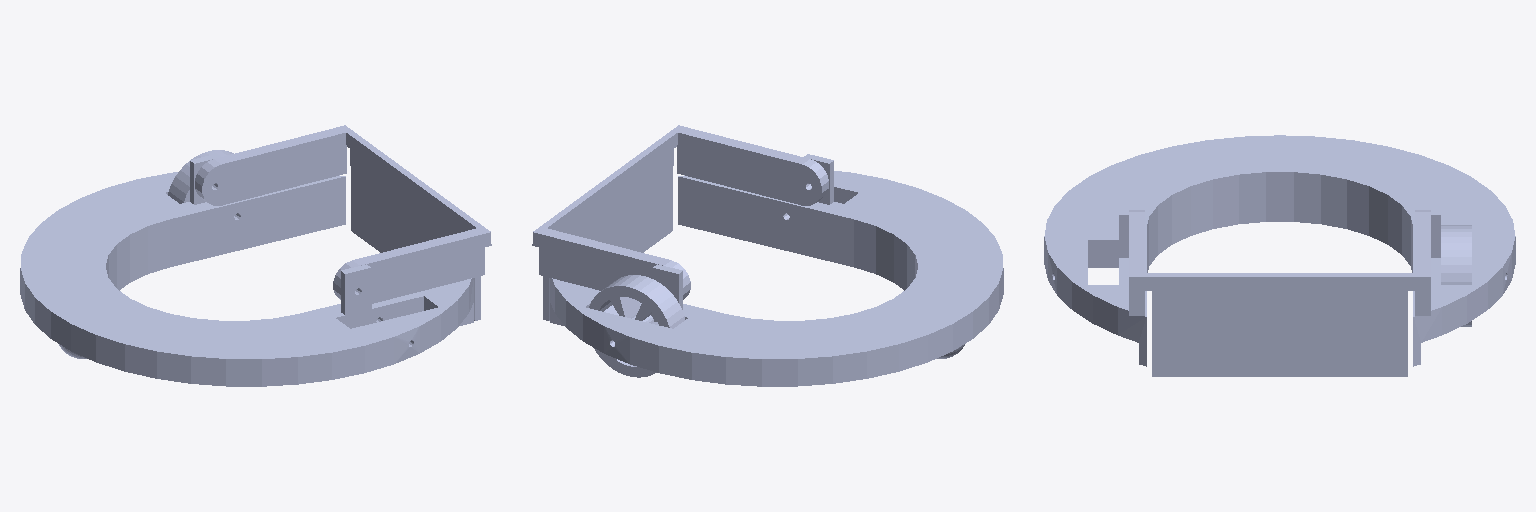
URDF robot description (area54):
<?xml version="1.0" encoding="utf-8"?>
<!-- This URDF was automatically created by SolidWorks to URDF Exporter! Originally created by [author] ([email redacted]) 
     Commit Version: 1.6.0-1-g15f4949  Build Version: 1.6.7594.29634
     For more information, please see http://wiki.ros.org/sw_urdf_exporter -->
<robot
  name="area54">
  <link
    name="base_link">
    <inertial>
      <origin
        xyz="-0.074361 2.1099E-08 0.018509"
        rpy="0 0 0" />
      <mass
        value="5" />
      <inertia
        ixx="0.19171"
        ixy="-1.6123E-08"
        ixz="0.00045566"
        iyy="0.099845"
        iyz="-8.6121E-11"
        izz="0.28912" />
    </inertial>
    <visual>
      <origin
        xyz="0 0 0"
        rpy="0 0 0" />
      <geometry>
        <mesh
          filename="package://area54/meshes/base_link.STL" />
      </geometry>
      <material
        name="">
        <color
          rgba="0.79216 0.81961 0.93333 1" />
      </material>
    </visual>
    <collision>
      <origin
        xyz="0 0 0"
        rpy="0 0 0" />
      <geometry>
        <mesh
          filename="package://area54/meshes/base_link.STL" />
      </geometry>
    </collision>
  </link>
  <link
    name="L_link">
    <inertial>
      <origin
        xyz="0.02 -1.3878E-17 -1.7347E-17"
        rpy="0 0 0" />
      <mass
        value="1" />
      <inertia
        ixx="0.00086187"
        ixy="-7.7277E-20"
        ixz="-5.6633E-20"
        iyy="0.00047589"
        iyz="1.0842E-19"
        izz="0.00047589" />
    </inertial>
    <visual>
      <origin
        xyz="0 0 0"
        rpy="0 0 0" />
      <geometry>
        <mesh
          filename="package://area54/meshes/L_link.STL" />
      </geometry>
      <material
        name="">
        <color
          rgba="0.79216 0.81961 0.93333 1" />
      </material>
    </visual>
    <collision>
      <origin
        xyz="0 0 0"
        rpy="0 0 0" />
      <geometry>
        <mesh
          filename="package://area54/meshes/L_link.STL" />
      </geometry>
    </collision>
  </link>
  <joint
    name="L_joint"
    type="continuous">
    <origin
      xyz="0.082504 0.205 0.02"
      rpy="2.5634 0 1.5708" />
    <parent
      link="base_link" />
    <child
      link="L_link" />
    <axis
      xyz="1 0 0" />
  </joint>
  <link
    name="R_link">
    <inertial>
      <origin
        xyz="-0.02 0 0"
        rpy="0 0 0" />
      <mass
        value="1" />
      <inertia
        ixx="0.00086187"
        ixy="-6.3145E-20"
        ixz="-8.8244E-20"
        iyy="0.00047589"
        iyz="6.7763E-20"
        izz="0.00047589" />
    </inertial>
    <visual>
      <origin
        xyz="0 0 0"
        rpy="0 0 0" />
      <geometry>
        <mesh
          filename="package://area54/meshes/R_link.STL" />
      </geometry>
      <material
        name="">
        <color
          rgba="0.79216 0.81961 0.93333 1" />
      </material>
    </visual>
    <collision>
      <origin
        xyz="0 0 0"
        rpy="0 0 0" />
      <geometry>
        <mesh
          filename="package://area54/meshes/R_link.STL" />
      </geometry>
    </collision>
  </link>
  <joint
    name="R_joint"
    type="continuous">
    <origin
      xyz="0.082504 -0.205 0.02"
      rpy="2.2586 0 1.5708" />
    <parent
      link="base_link" />
    <child
      link="R_link" />
    <axis
      xyz="1 0 0" />
  </joint>
  <link
    name="castor_link">
    <inertial>
      <origin
        xyz="0 2.7756E-17 2.7756E-17"
        rpy="0 0 0" />
      <mass
        value="1" />
      <inertia
        ixx="0.00012425"
        ixy="0"
        ixz="-6.7763E-21"
        iyy="0.00012425"
        iyz="0"
        izz="0.00012425" />
    </inertial>
    <visual>
      <origin
        xyz="0 0 0"
        rpy="0 0 0" />
      <geometry>
        <mesh
          filename="package://area54/meshes/castor_link.STL" />
      </geometry>
      <material
        name="">
        <color
          rgba="0.79216 0.81961 0.93333 1" />
      </material>
    </visual>
    <collision>
      <origin
        xyz="0 0 0"
        rpy="0 0 0" />
      <geometry>
        <mesh
          filename="package://area54/meshes/castor_link.STL" />
      </geometry>
    </collision>
  </link>
  <joint
    name="castor_joint"
    type="continuous">
    <origin
      xyz="-0.25 0 0"
      rpy="1.9804 0.71349 -0.61193" />
    <parent
      link="base_link" />
    <child
      link="castor_link" />
    <axis
      xyz="0.43433 0.67086 0.60109" />
    <dynamics
      damping="0"
      friction="0" />
  </joint>


  <gazebo>

    <plugin filename="libgazebo_ros_diff_drive.so" name="differential_drive_controller">

      <legacyMode>false</legacyMode>

      <alwaysOn>true</alwaysOn>

      <updateRate>20</updateRate>

      <leftJoint>L_joint</leftJoint>

      <rightJoint>R_joint</rightJoint>

      <wheelSeparation>0.41</wheelSeparation>

      <wheelDiameter>0.13</wheelDiameter>

      <torque>2</torque>

      <commandTopic>cmd_vel</commandTopic>

      <odometryTopic>odom</odometryTopic>

      <odometryFrame>odom</odometryFrame>

      <robotBaseFrame>base_link</robotBaseFrame>

    </plugin>

  </gazebo>
  <link
    name="grip_link">
    <inertial>
      <origin
        xyz="-0.05 0.0046968 0.10709"
        rpy="0 0 0" />
      <mass
        value="1" />
      <inertia
        ixx="0.00625"
        ixy="-1.975E-18"
        ixz="1.1185E-18"
        iyy="0.02637"
        iyz="0.0009528"
        izz="0.022614" />
    </inertial>
    <visual>
      <origin
        xyz="0 0 0"
        rpy="0 0 0" />
      <geometry>
        <mesh
          filename="package://area54/meshes/grip_link.STL" />
      </geometry>
      <material
        name="">
        <color
          rgba="0.79216 0.81961 0.93333 1" />
      </material>
    </visual>
    <collision>
      <origin
        xyz="0 0 0"
        rpy="0 0 0" />
      <geometry>
        <mesh
          filename="package://area54/meshes/grip_link.STL" />
      </geometry>
    </collision>
  </link>
  <joint
    name="grip_joint"
    type="continuous">
    <origin
      xyz="0.09 0.05 0.05"
      rpy="1.583 0 1.5708" />
    <parent
      link="base_link" />
    <child
      link="grip_link" />
    <axis
      xyz="1 0 0" />
    <limit
      lower="0"
      upper="1.57"
      effort="2000"
      velocity="0.5" />
    <dynamics
      damping="0"
      friction="0" />
  </joint>

  <gazebo>
    <plugin name="gazebo_ros_control" filename="libgazebo_ros_control.so">
      <robotNamespace>/area54</robotNamespace>
      <robotSimType>gazebo_ros_control/DefaultRobotHWSim</robotSimType>
      <legacyModeNS>true</legacyModeNS>
    </plugin>
  </gazebo>

  <!-- transmission -->
  <transmission name="base_to_second_trans">
    <type>transmission_interface/SimpleTransmission</type>
    <actuator name="motor1">
      <mechanicalReduction>1</mechanicalReduction>
    </actuator>
    <joint name="grip_joint">
      <hardwareInterface>PositionJointInterface</hardwareInterface>
    </joint>
  </transmission>
</robot>

--- Facts derived from the render (not from the file) ---
3 views of the same robot in one strip: view 1: azimuth 30°, elevation 25°; view 2: azimuth 150°, elevation 25°; view 3: azimuth 270°, elevation 25° (orthographic).
Robot: area54 — 5 links, 4 joints (4 continuous); root link base_link; default pose: every joint at zero.
Visible links, largest first — view 1: base_link, grip_link, L_link; view 2: base_link, grip_link, L_link; view 3: base_link, grip_link, L_link.
Boxes of the visible links, left/top/right/bottom form: base_link: left=20, top=154, right=474, bottom=386; grip_link: left=195, top=125, right=491, bottom=320; L_link: left=168, top=150, right=233, bottom=203; base_link: left=549, top=154, right=1003, bottom=386; grip_link: left=532, top=125, right=828, bottom=320; L_link: left=589, top=275, right=684, bottom=377; base_link: left=1044, top=135, right=1515, bottom=366; grip_link: left=1129, top=210, right=1430, bottom=376; L_link: left=1441, top=225, right=1471, bottom=326.
Size in the robot's own frame: 0.5613 by 0.5999 by 0.1473 metres.
Meshes: 5 distinct files referenced, 4 mesh visuals loaded (4 binary STL); not drawn: 1 (reference not matched to a file when rendering).
